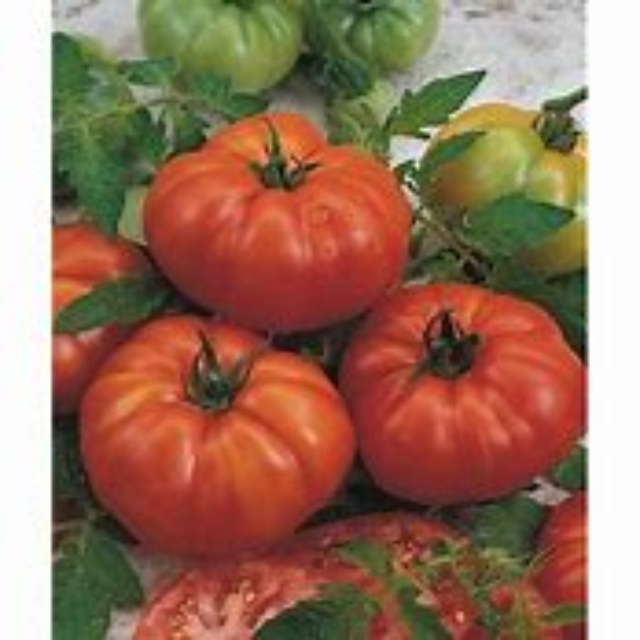tomato: (93, 324, 344, 551), (351, 280, 604, 505), (144, 120, 409, 316), (422, 101, 589, 269)
